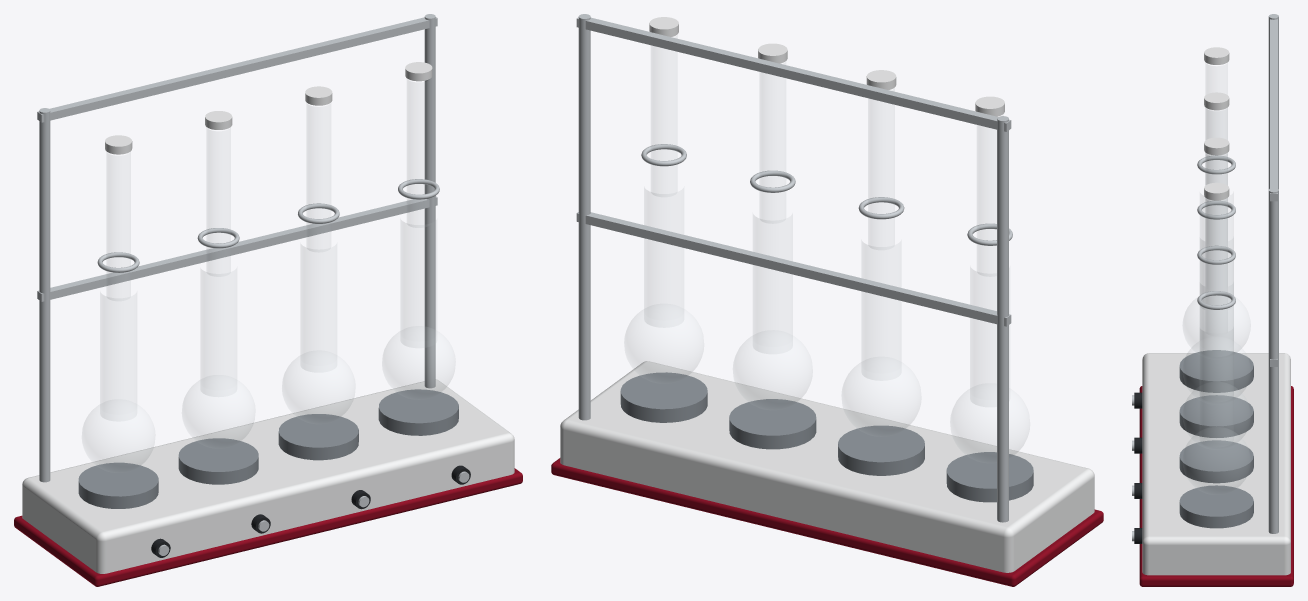
Rendered from nyc-100.glb.
The picture shows the model from 3 angles, left to right: view 1: azimuth 30°, elevation 25°; view 2: azimuth 150°, elevation 25°; view 3: azimuth 270°, elevation 25°; orthographic projection. The views are drawn at different scales.
Bounding box in the file's own units: 0.8 × 0.75 × 0.283.
